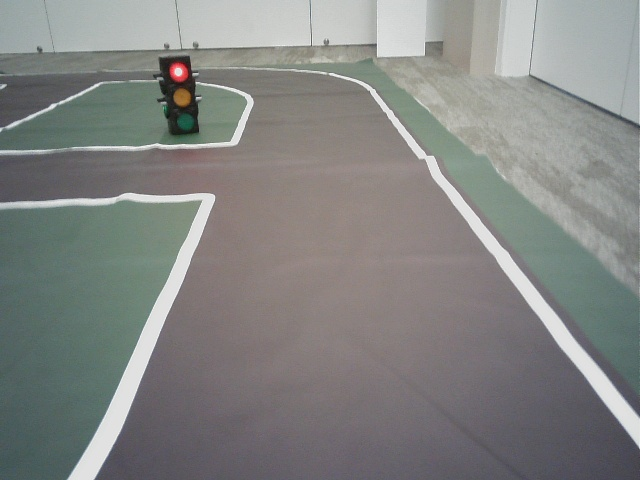red: (163, 57, 197, 131)
